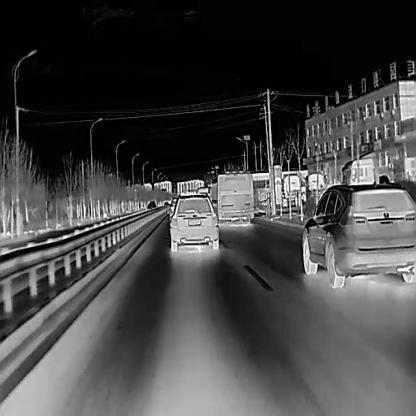bus: (209, 170, 252, 225)
car: (299, 178, 415, 288), (166, 192, 218, 251), (146, 199, 156, 212)
truck: (340, 153, 398, 187), (281, 170, 301, 204), (304, 172, 324, 203)
